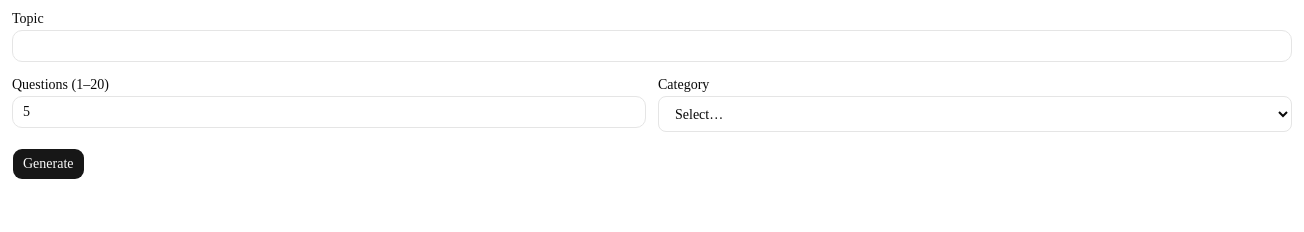
Test: MaterialGenerate › posts topic/count/category and surfaces the 503 unconfigured message verbatim
Type "Reading comprehension: ratios" into the field labelled "Topic".
click(652, 46); type("Reading comprehension: ratios")  # box [12,30,1292,62]
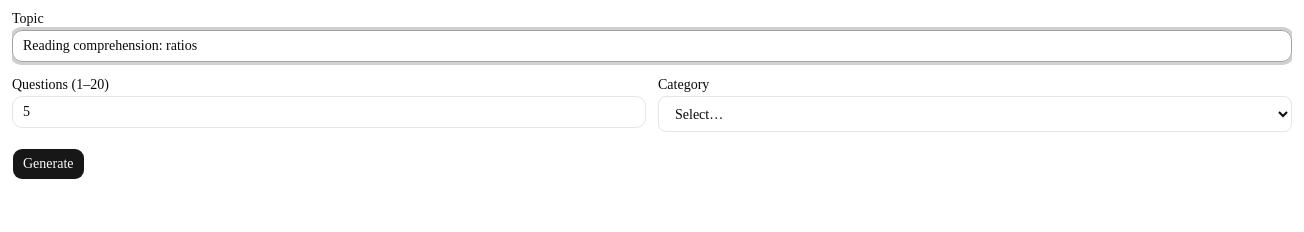
Select "Verbal" in the dropdown labelled "Category" at [975, 114], box [658,96,1292,132]
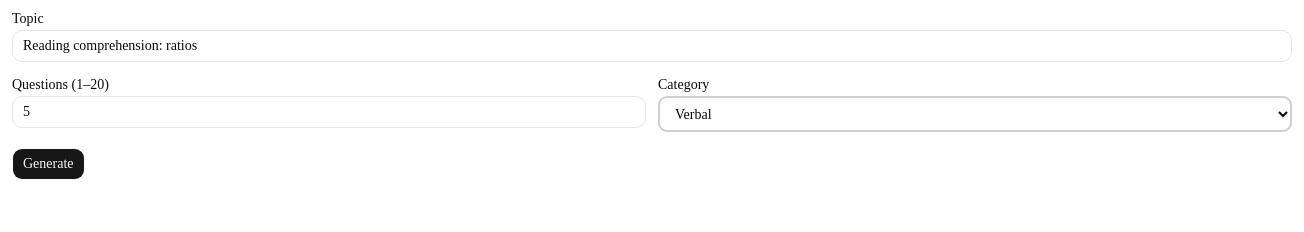
Click the button "Generate".
click(48, 164)  # box [12,148,84,180]
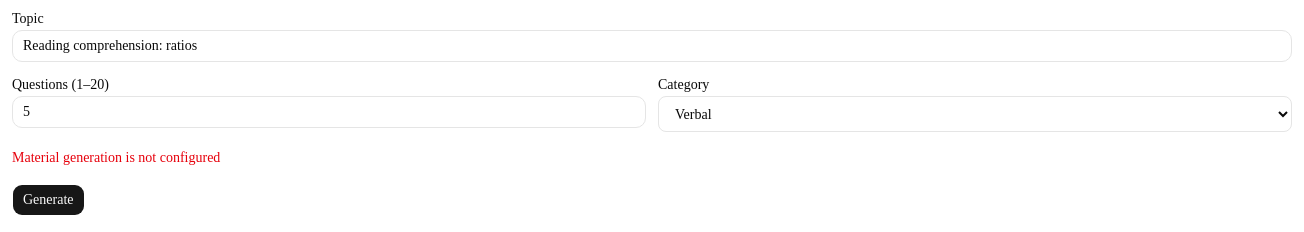
Now the text "Material generation is not configured" is shown, box [12,150,220,165]
